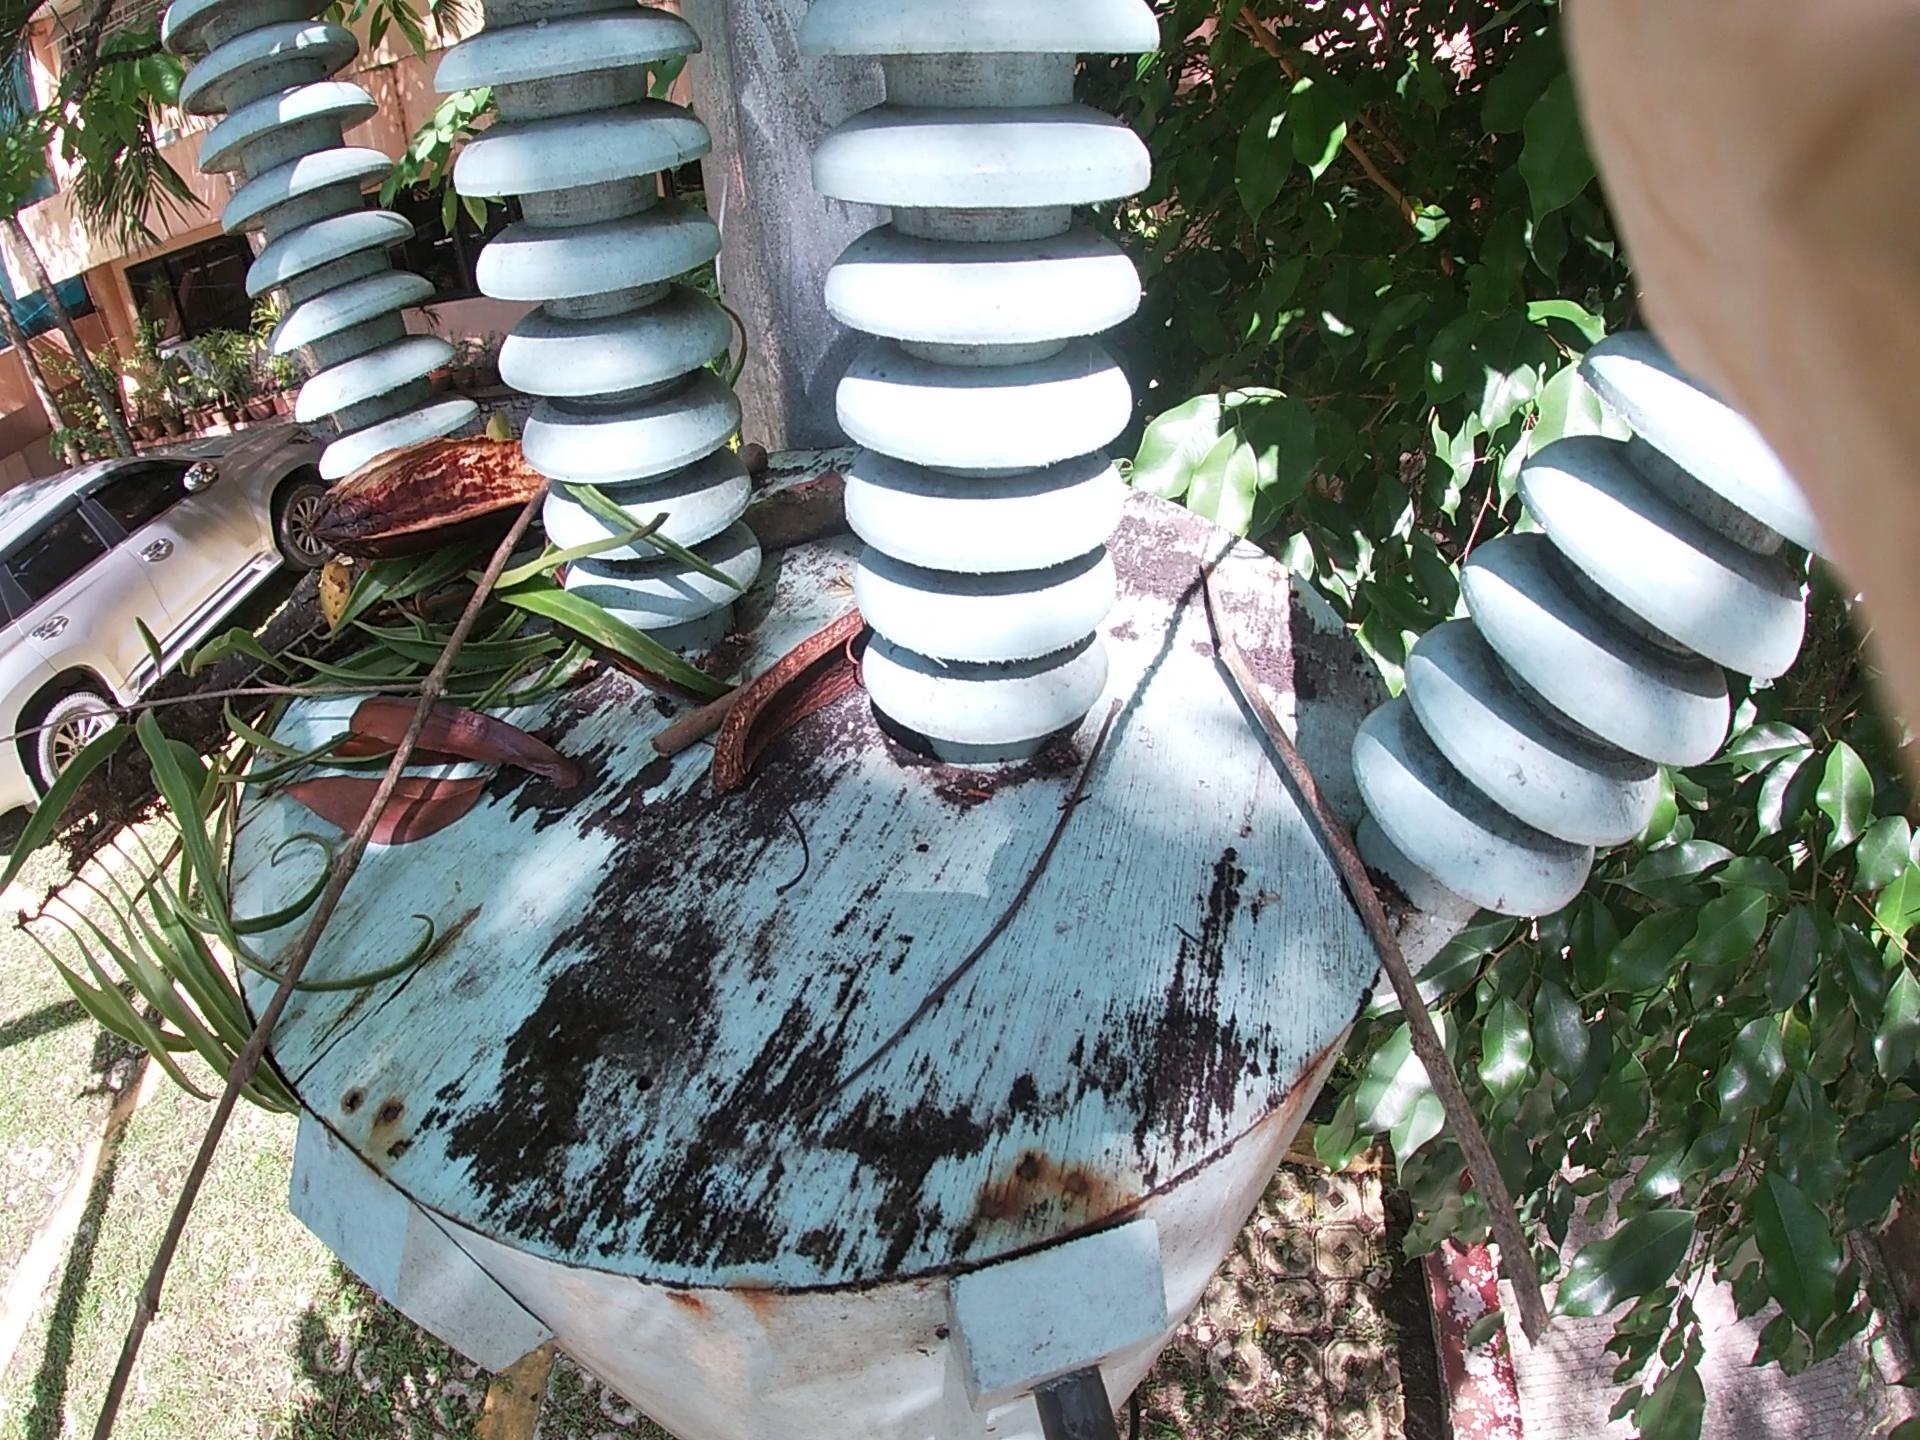branch with leaves: (68, 460, 859, 1193)
leaf: (299, 659, 543, 945)
mahogany fruit: (650, 531, 878, 835), (240, 437, 602, 591)
tree branch: (139, 470, 552, 1386), (1225, 641, 1531, 1262), (750, 682, 1105, 1109), (655, 489, 1154, 790)
